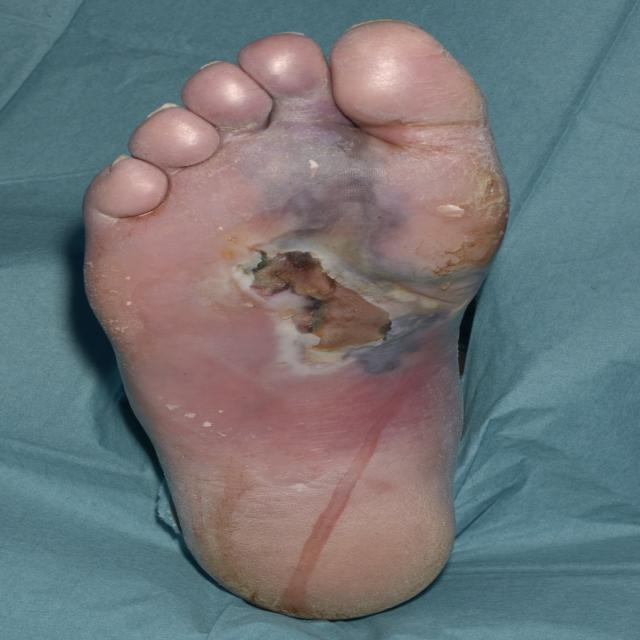wound: (240, 248, 394, 362)
